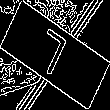L_SW: (34, 25, 76, 85)
